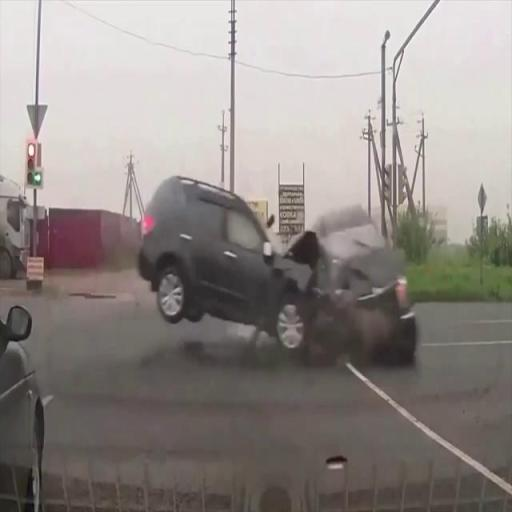小汽车撞小汽车: (138, 167, 424, 372)
